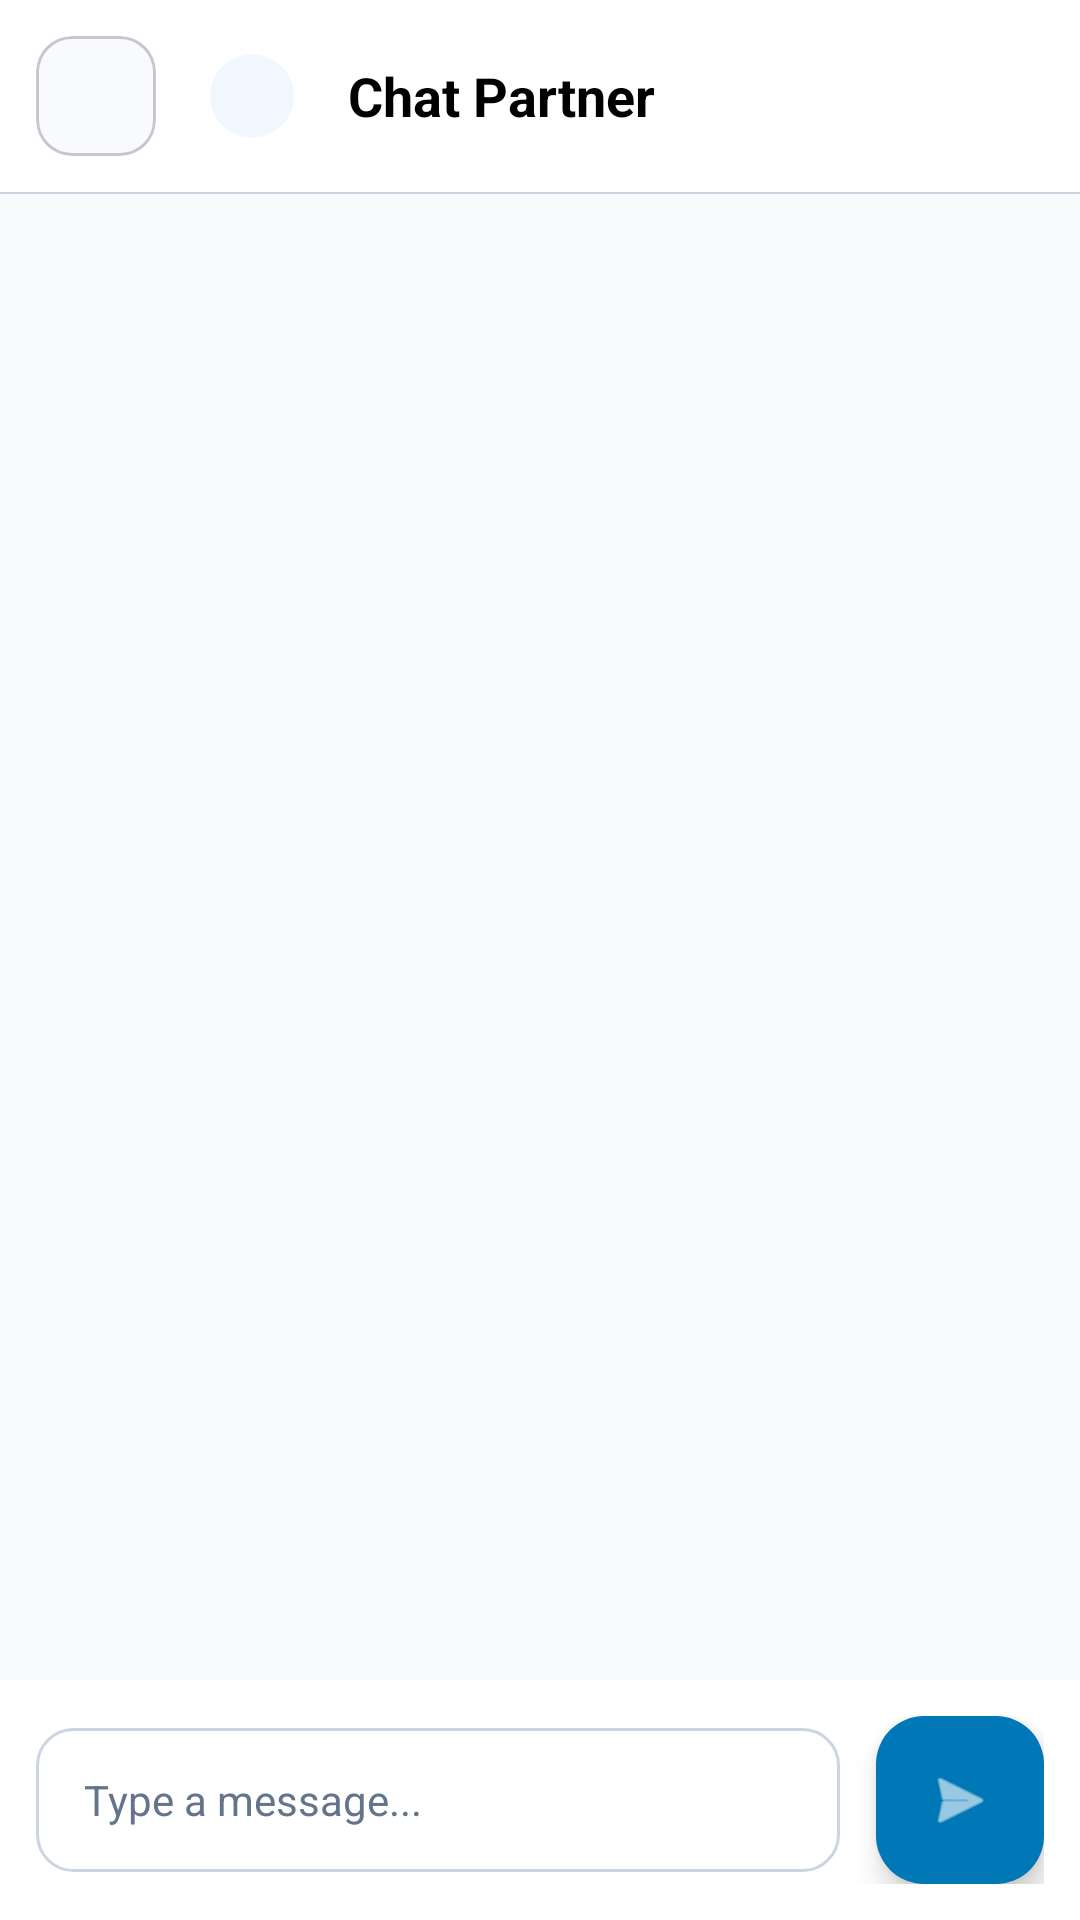

Icons on this 1080 × 1920 Android screen, each with its box as region(x1, y1, x2, y2):
Send Message: region(876, 1716, 1044, 1884)
